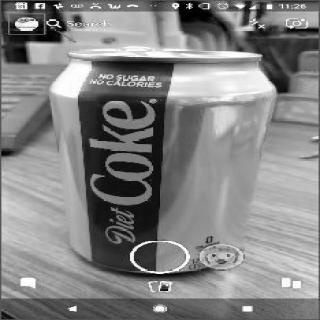alumunium_can: (48, 46, 279, 276)
